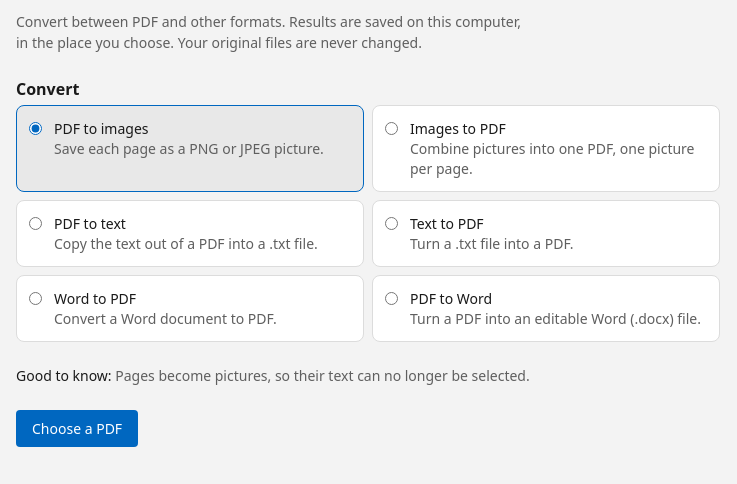
Test case: Convert page › shows the limitation of the selected conversion
Expected: the text "can no longer be selected" is shown, x1=115 y1=366 x2=530 y2=385
Click the radio button labelled "PDF to text Copy the text out of a PDF into a .txt file.": (36, 224) x1=29 y1=217 x2=42 y2=230
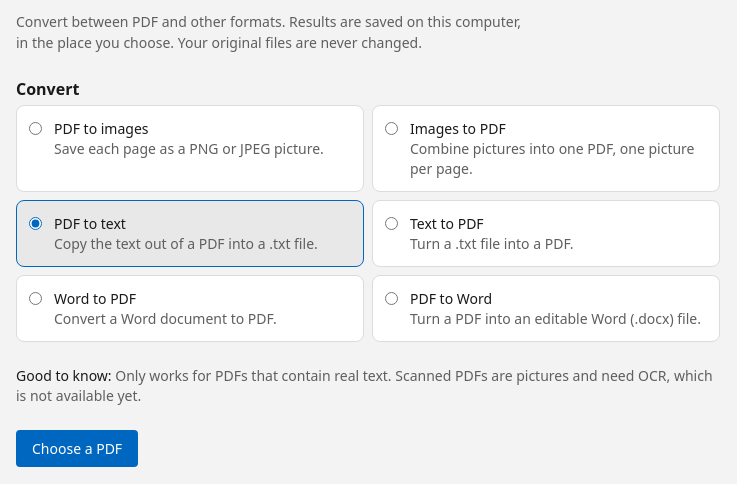
Expected: the text "need OCR" is shown, x1=16 y1=366 x2=712 y2=405
